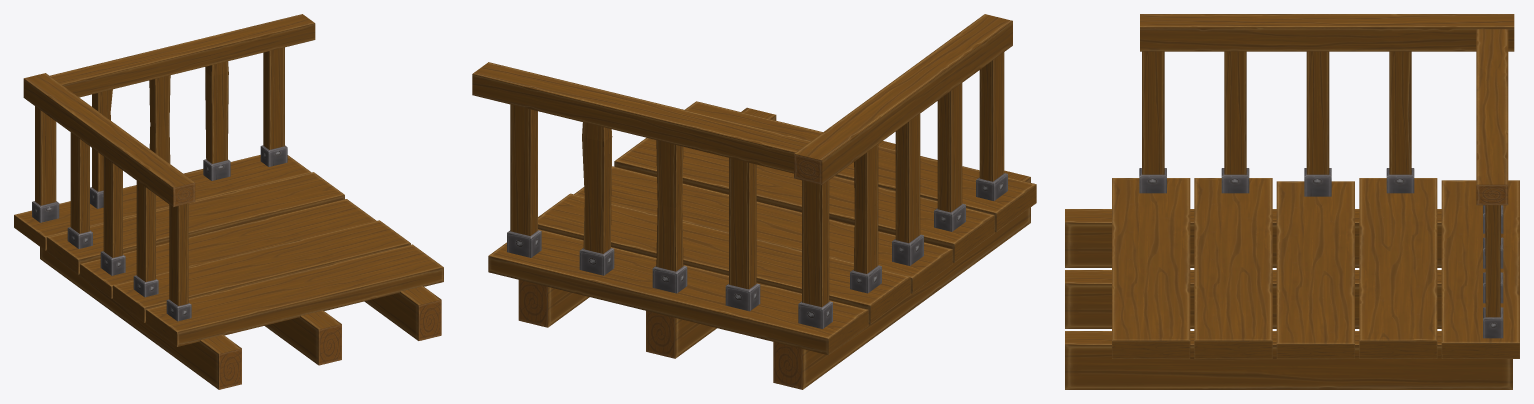
File: SM_Platform_Exterior_03.fbx
3 renders of one model, left to right at view 1: azimuth 30°, elevation 25°; view 2: azimuth 150°, elevation 25°; view 3: azimuth 270°, elevation 25°, orthographic. The views are drawn at different scales.
Visible parts, largest first — view 1: SM_Platform_Exterior_03; view 2: SM_Platform_Exterior_03; view 3: SM_Platform_Exterior_03.
Part boxes in pixels (<box>): SM_Platform_Exterior_03: <box>14,14,443,389</box>; SM_Platform_Exterior_03: <box>472,14,1036,389</box>; SM_Platform_Exterior_03: <box>1065,14,1519,389</box>.
Bounding box in the file's own units: 1.99 × 1.23 × 2.21.
